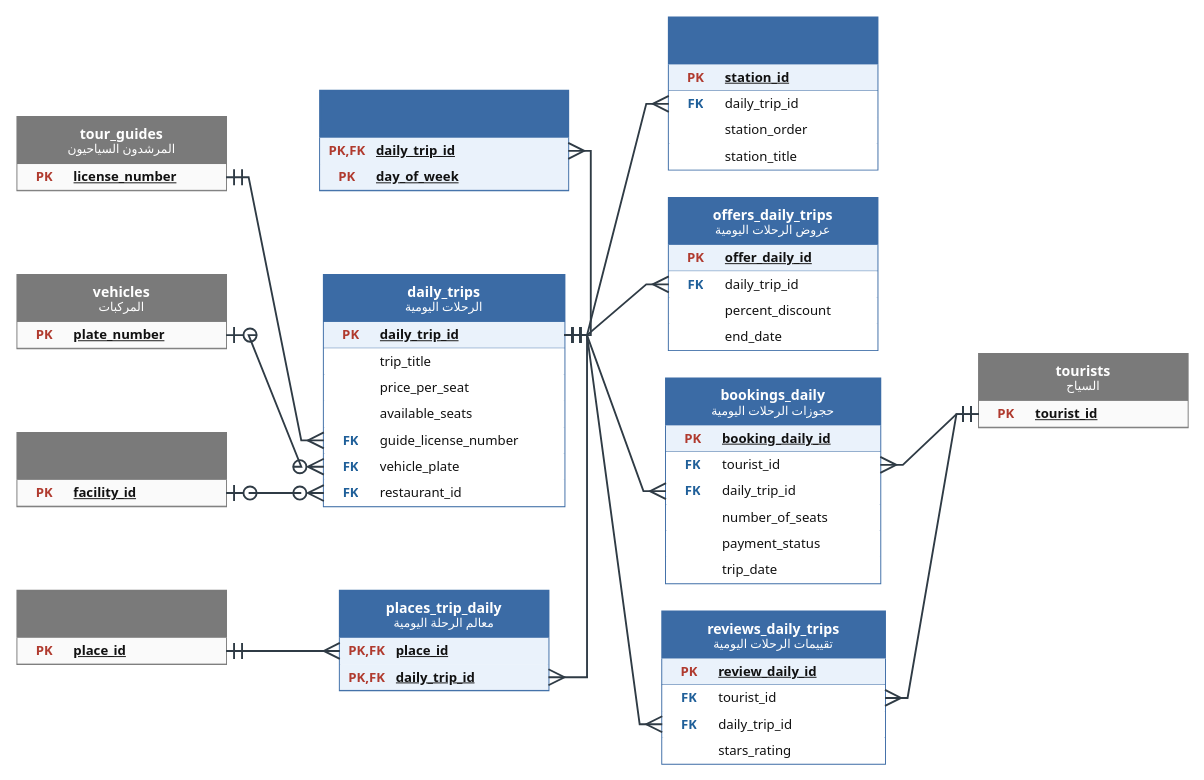
This 1204x780 diagram has some shape labels left out. Each missing label, with the box of its shape:
daily_trip_days أيام انطلاق الرحلة اليومية: (319, 89, 569, 191)
daily_trip_stations محطات الرحلة اليومية: (667, 16, 878, 170)
places_tourist المعالم السياحية: (16, 589, 227, 665)
restaurants_cafes المطاعم والمقاهي: (16, 431, 227, 507)
